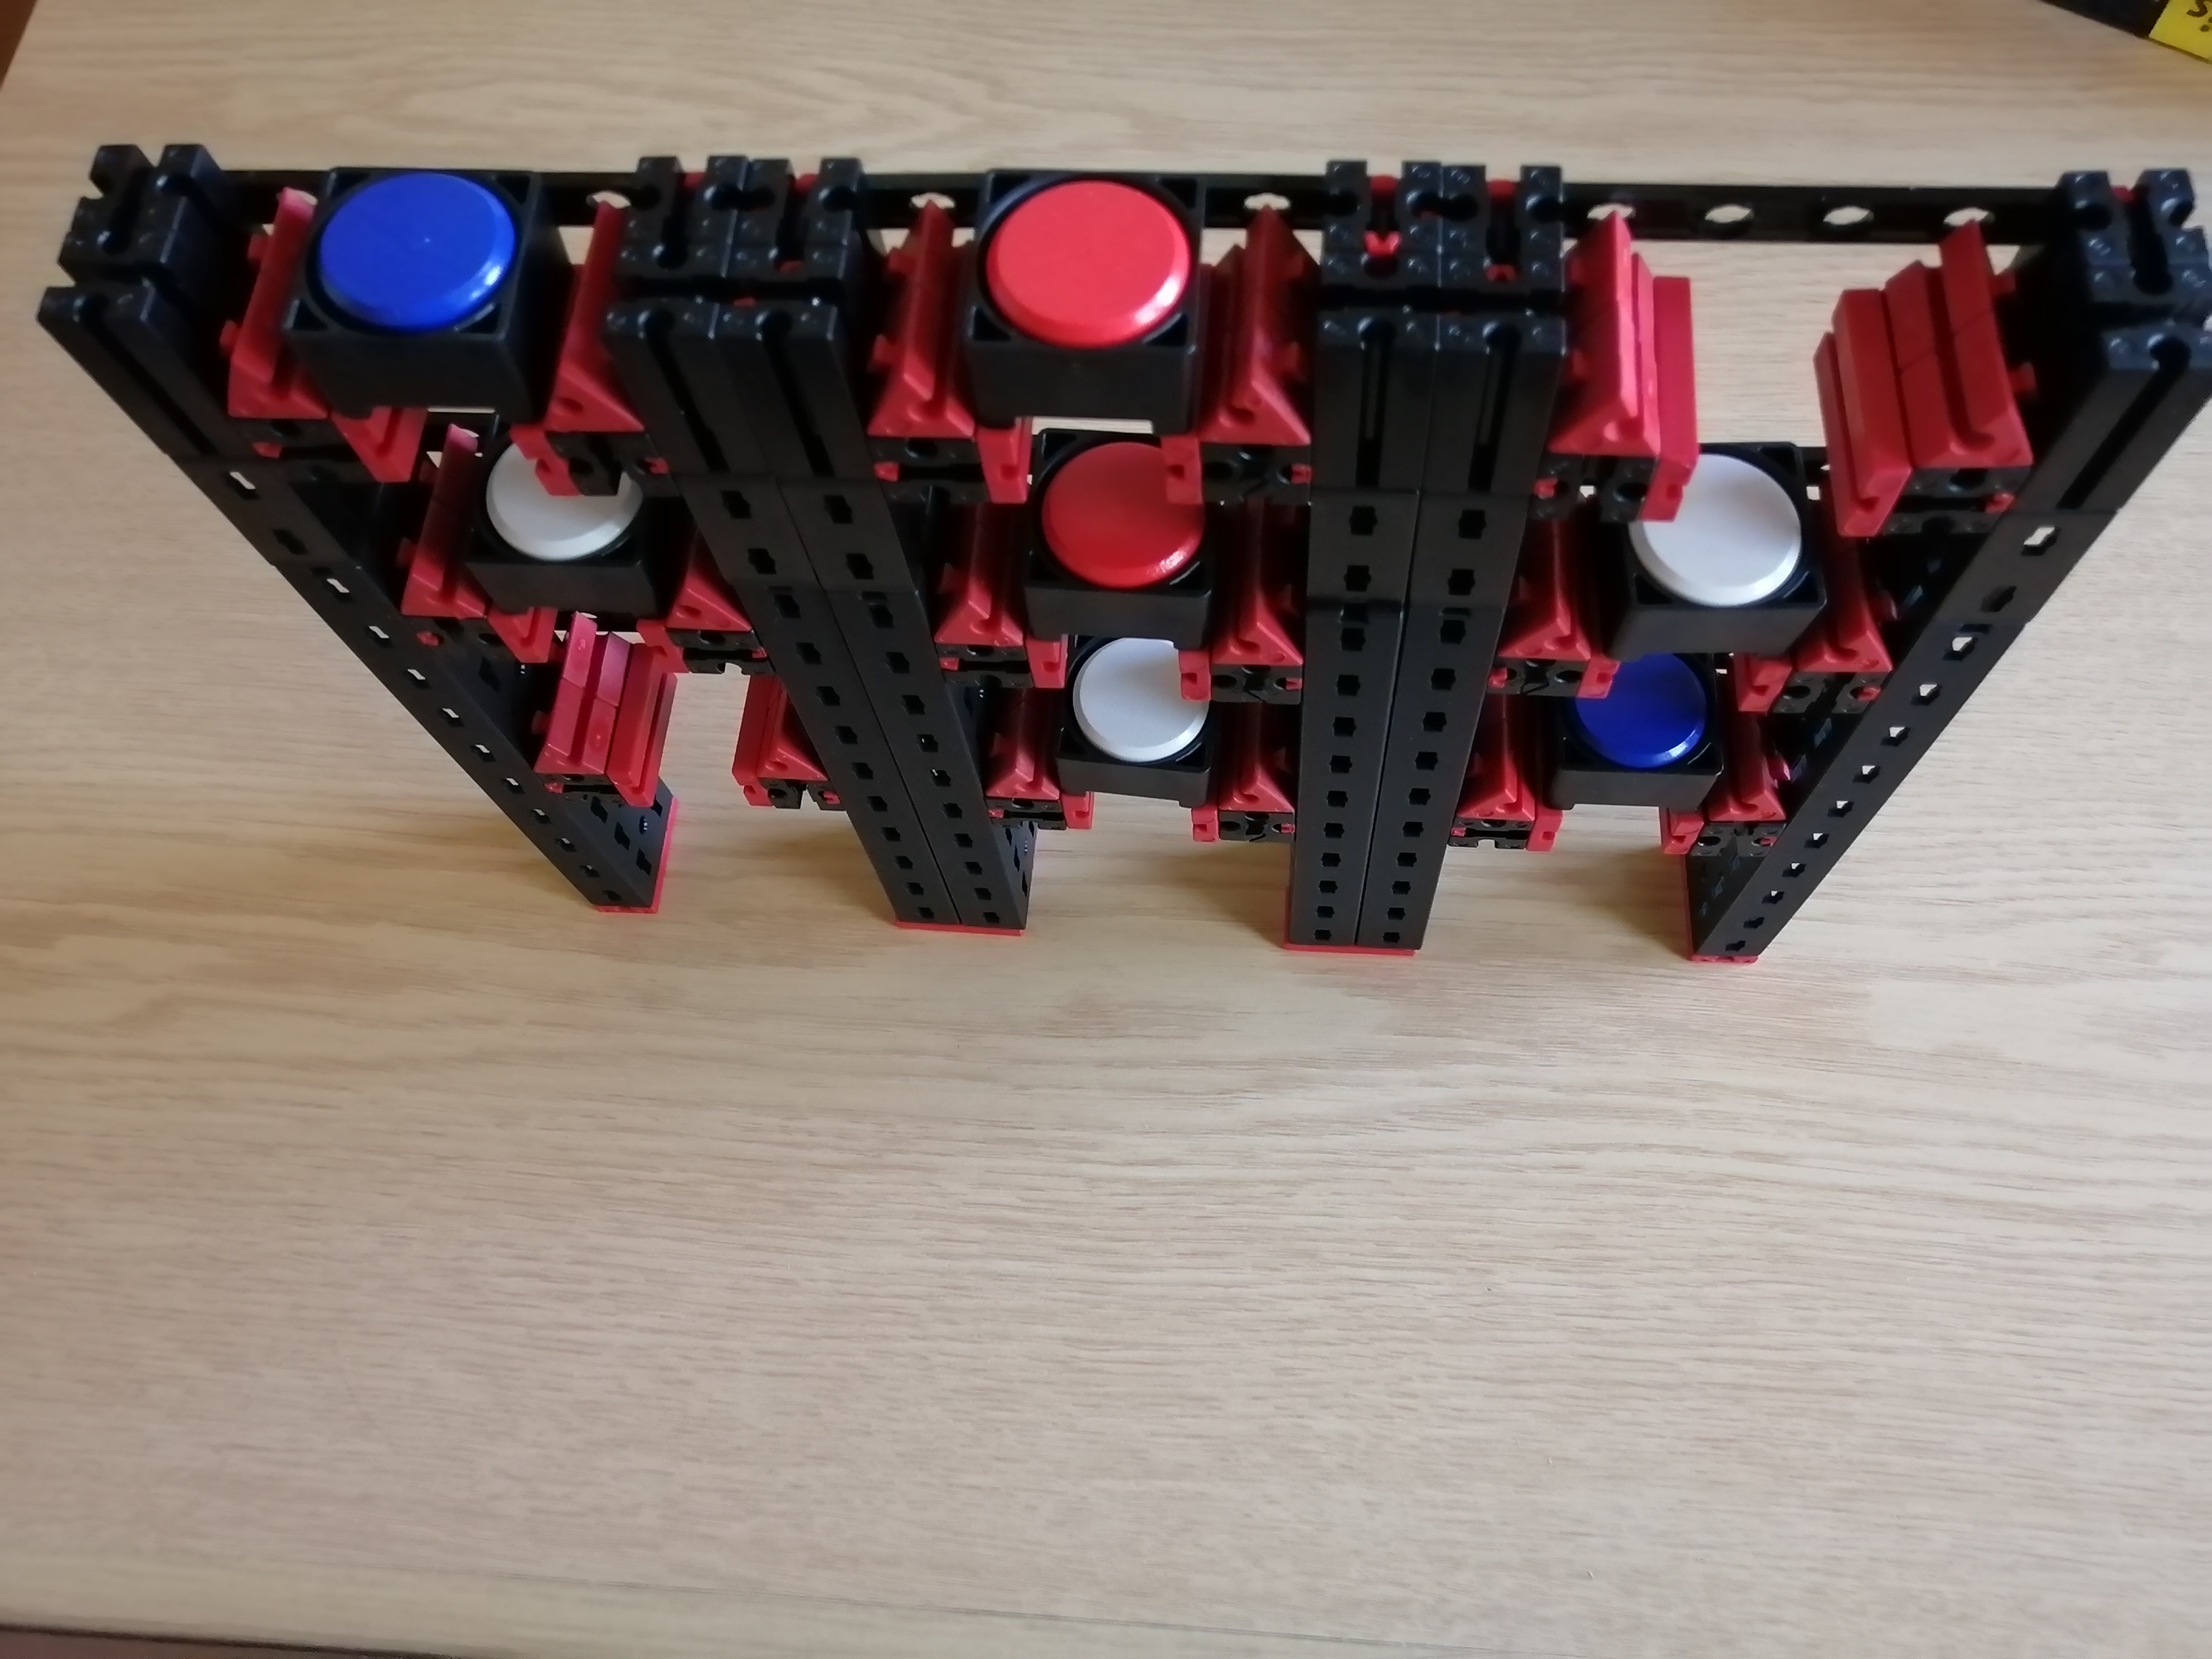Behaelter: (972, 171, 1204, 434), (307, 167, 547, 411), (1609, 525, 1831, 662), (1031, 493, 1224, 643), (467, 490, 679, 617), (1536, 699, 1728, 814), (1052, 692, 1233, 805)
WerkStueck: (993, 183, 1177, 328), (327, 176, 503, 324), (1691, 460, 1808, 612), (1049, 465, 1169, 584), (1080, 643, 1183, 767), (493, 488, 648, 563), (1615, 667, 1700, 775)
